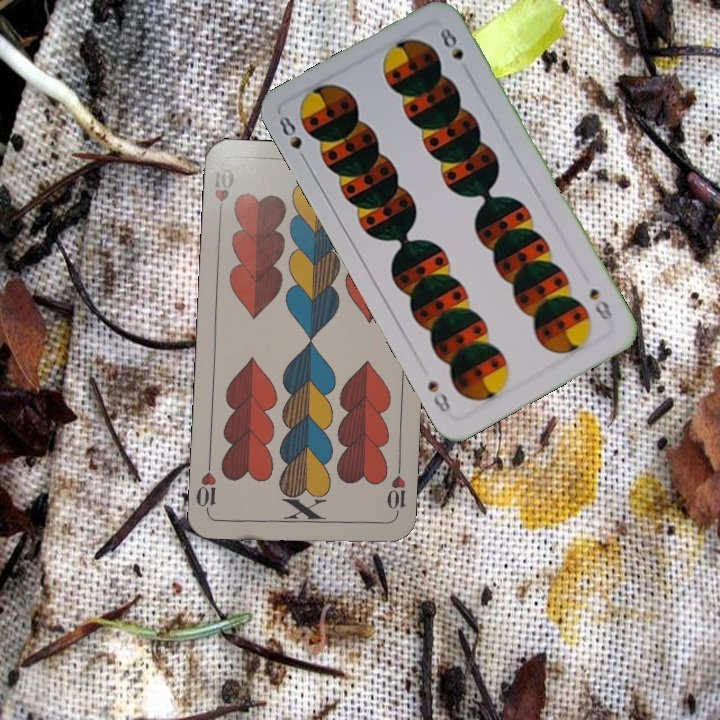H10: (210, 163, 237, 222), (382, 462, 408, 521)
S8: (274, 111, 311, 167), (585, 284, 615, 324)
